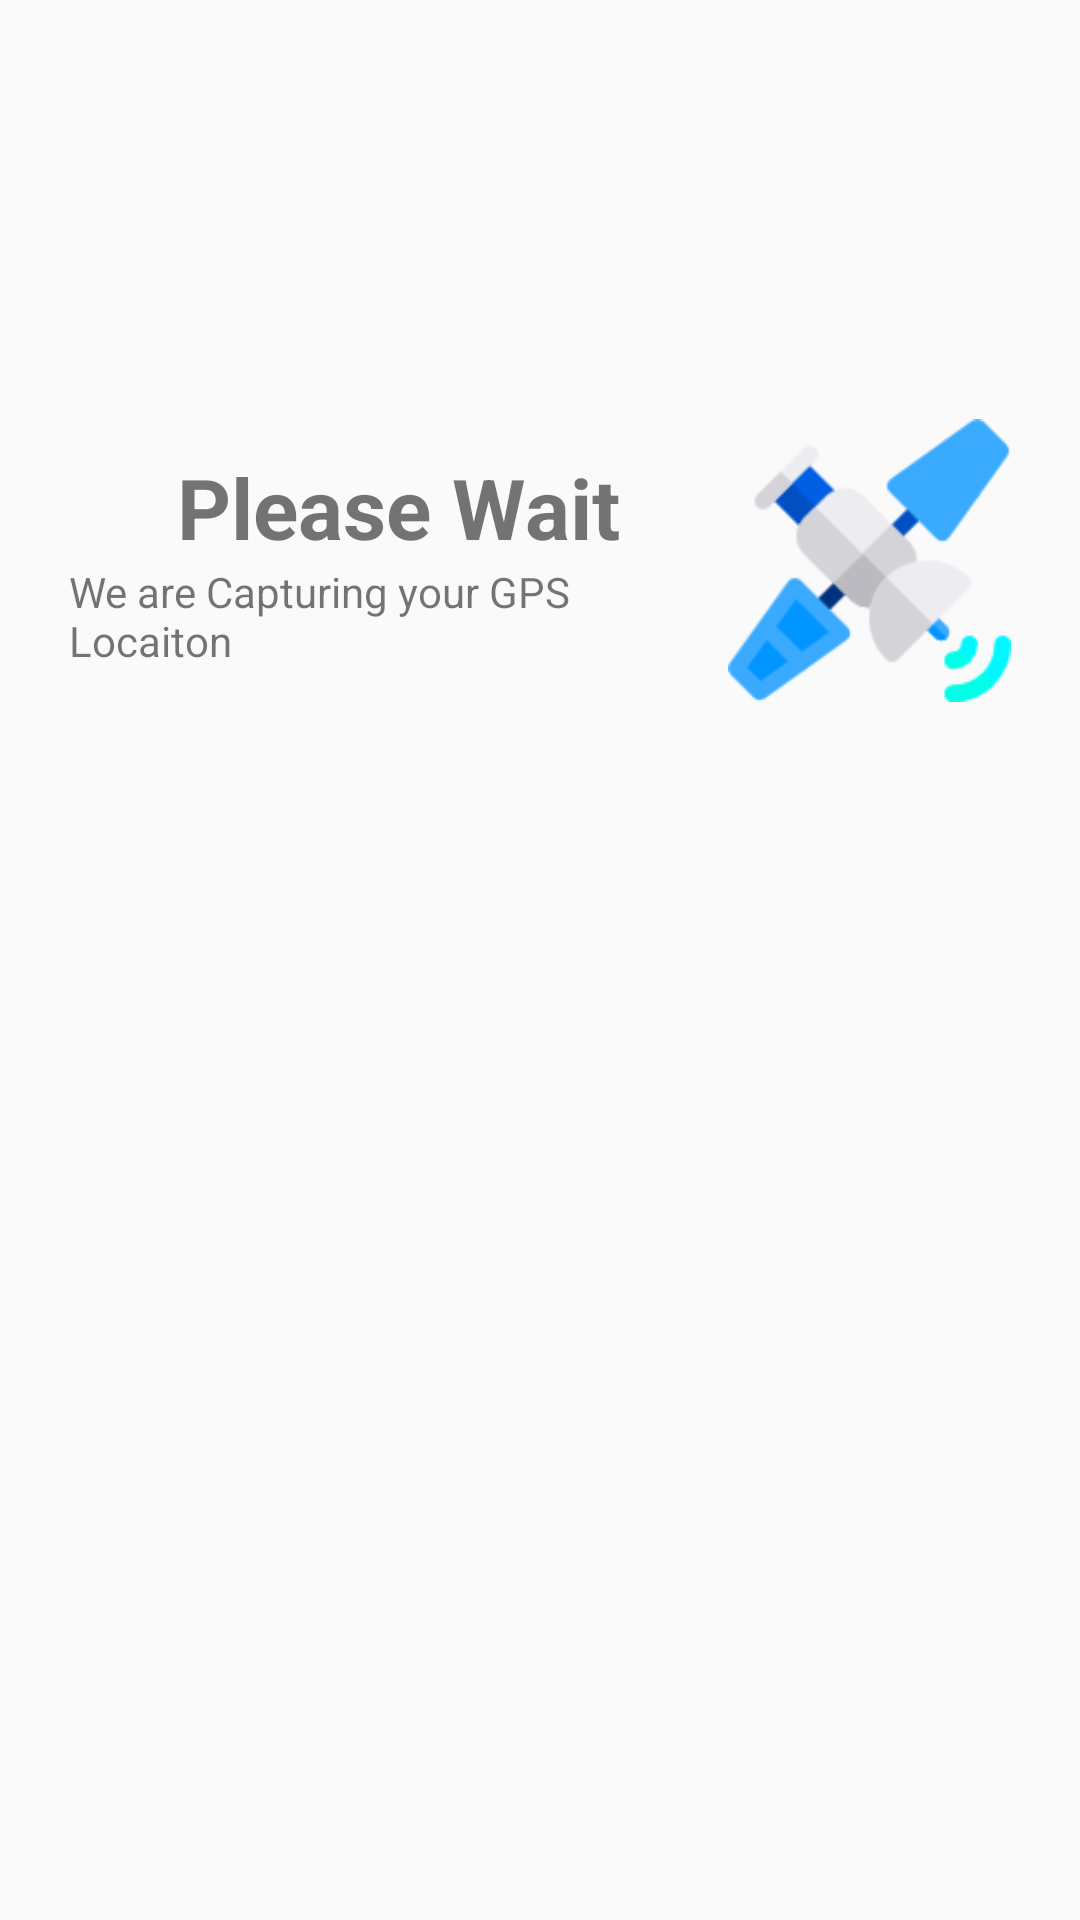

Where to tap for icons on this 1080px x 1920px app screen, as (x=x, y=y):
satellite: (x=869, y=560)
